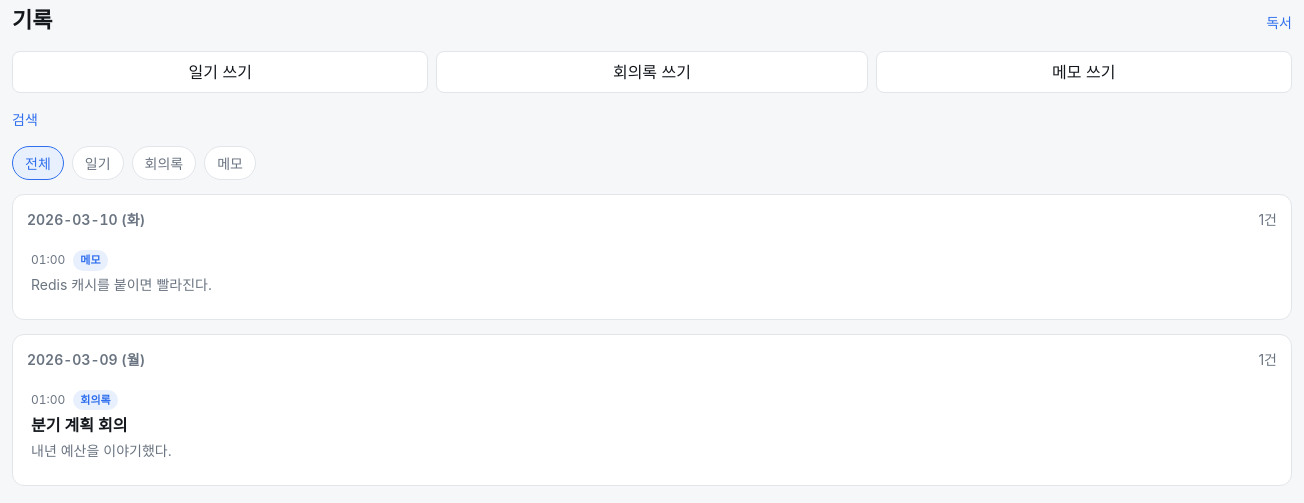
Test case: 기록 검색 한 줄 › 제목으로 찾는다
Step 1. Click the button "검색" → (25, 120), box [12,107,38,132]
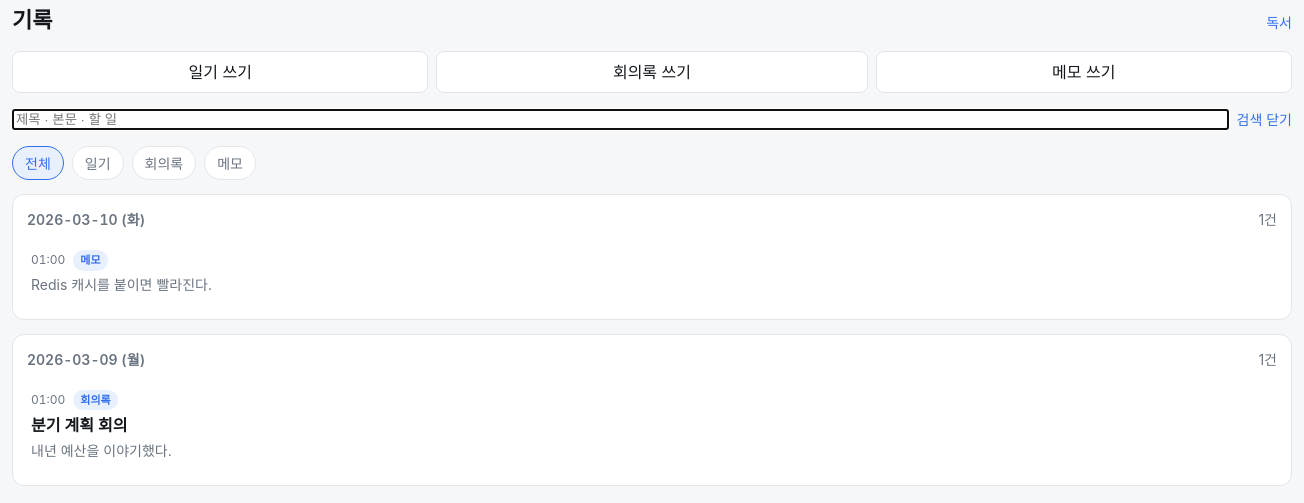
Step 2. Type "분기" into the search field named "검색어" → (620, 120), box [12,109,1228,130]
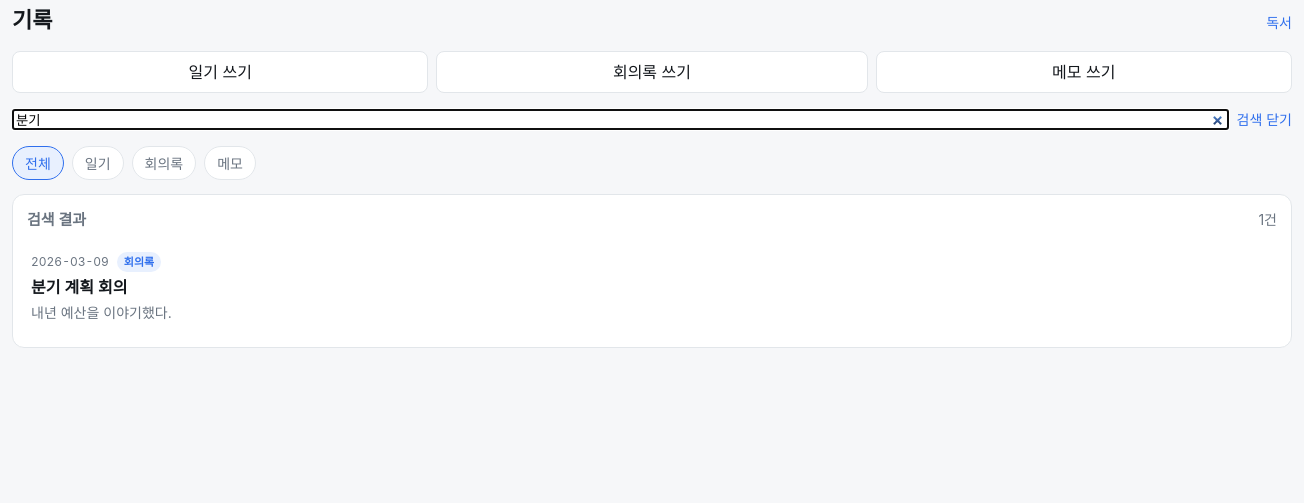
Expected: the text "분기 계획 회의" is shown, [31,275,127,299]
Expected: the button "Redis 캐시를 붙이면 빨라진다." is gone
